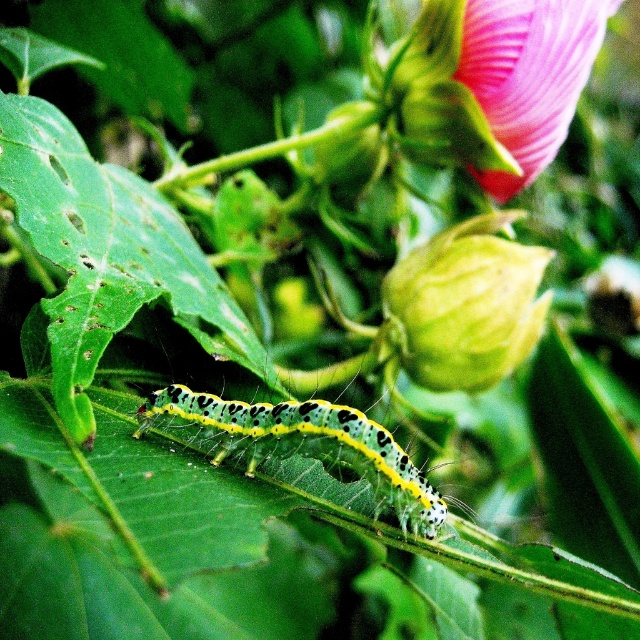Caterpillar: (128, 350, 486, 551)
